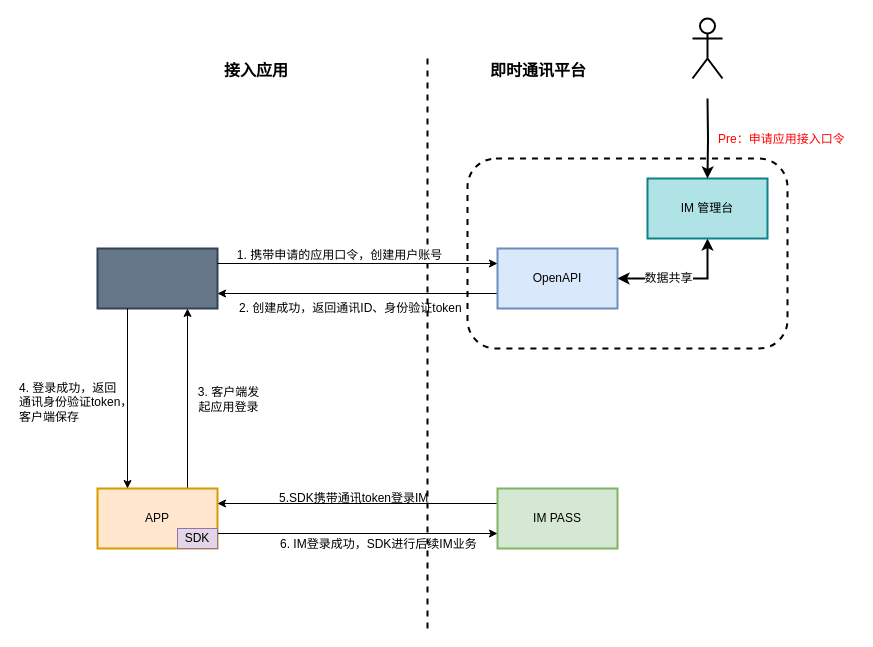
The diagram is 873 pixels wide and 647 high, and some of its shapes have lost their labels. Each missing label, with the centre of its shape:
"APP Server" belongs at (157,278).
"应用开发者" belongs at (707,48).
